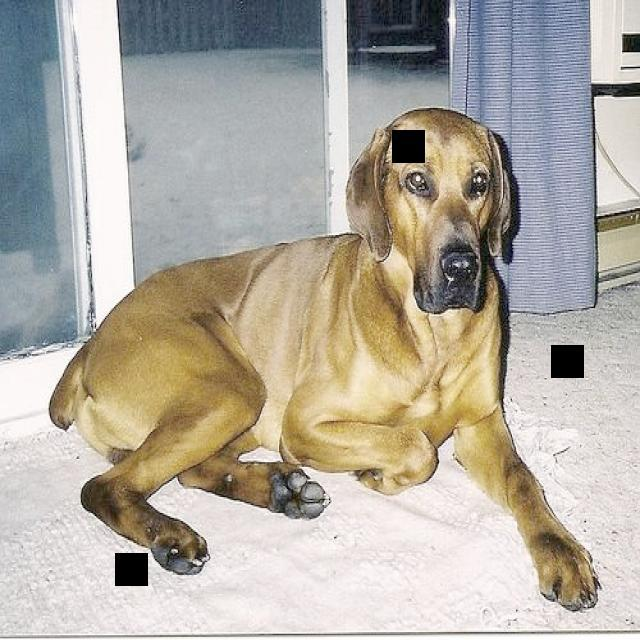adult_dog: (48, 109, 601, 614)
